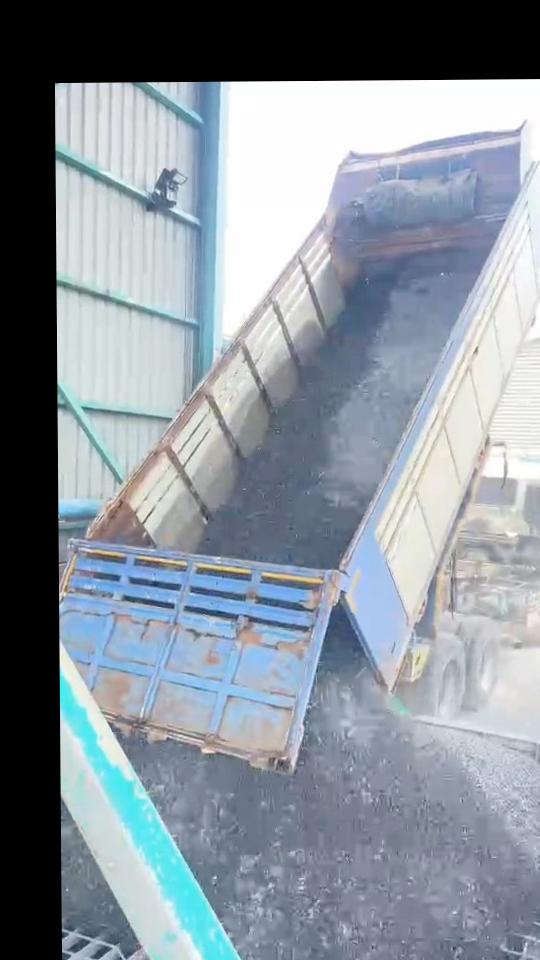gravel: (124, 613, 540, 960), (200, 253, 481, 567), (62, 812, 133, 946)
